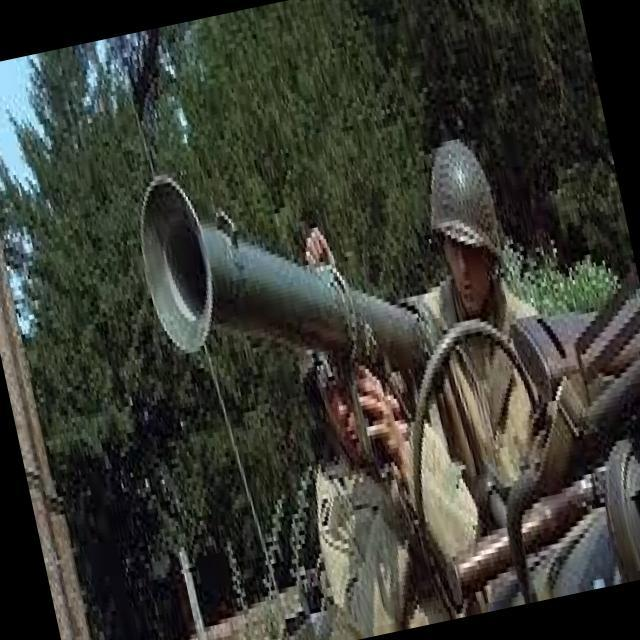rocket: (122, 116, 438, 425)
